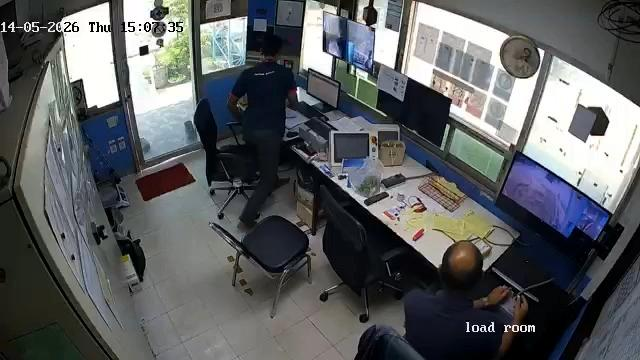Head: (439, 239, 485, 290), (256, 34, 281, 59)
People: (402, 240, 528, 360), (226, 33, 297, 227)
